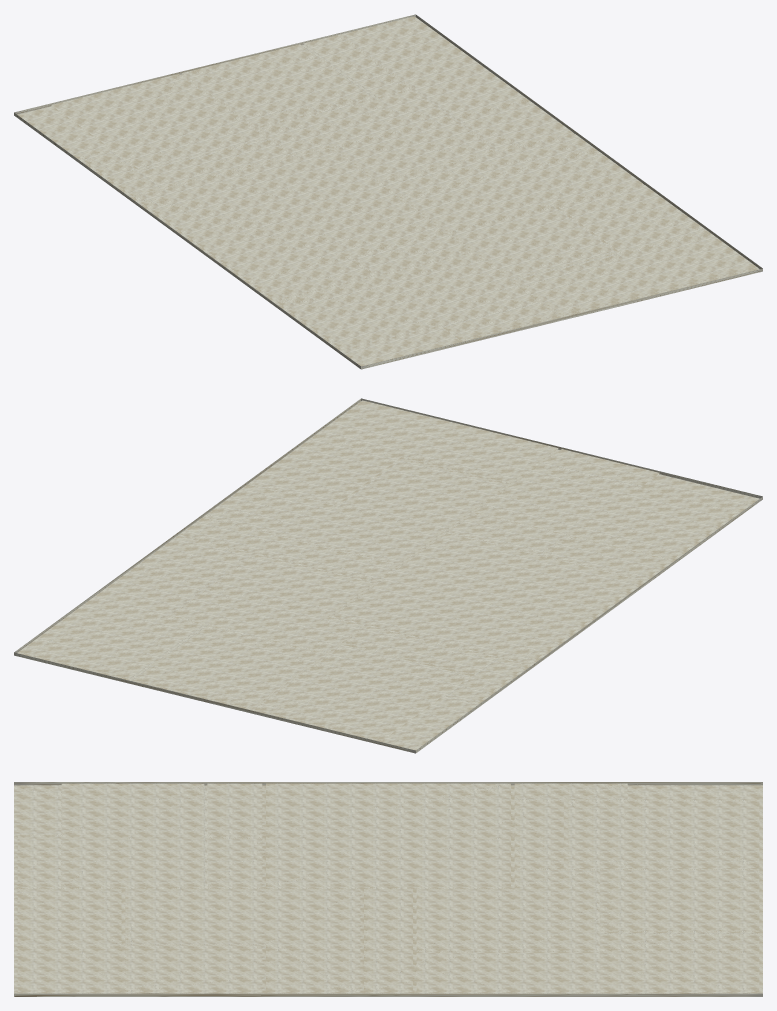
The model's file is FirstFloor.obj.
3 views of the same model, one above another, from view 1: azimuth 30°, elevation 25°; view 2: azimuth 150°, elevation 25°; view 3: azimuth 270°, elevation 25° (orthographic). The views are drawn at different scales.
Parts seen in each view (by area): view 1: Box011; view 2: Box011; view 3: Box011.
Part boxes in pixels (box(x1,y1,x2,y2)): Box011: box(14, 14, 762, 369); Box011: box(14, 398, 762, 753); Box011: box(14, 782, 762, 996).
Bounding box in the file's own units: 1610 × 11.81 × 2409.
